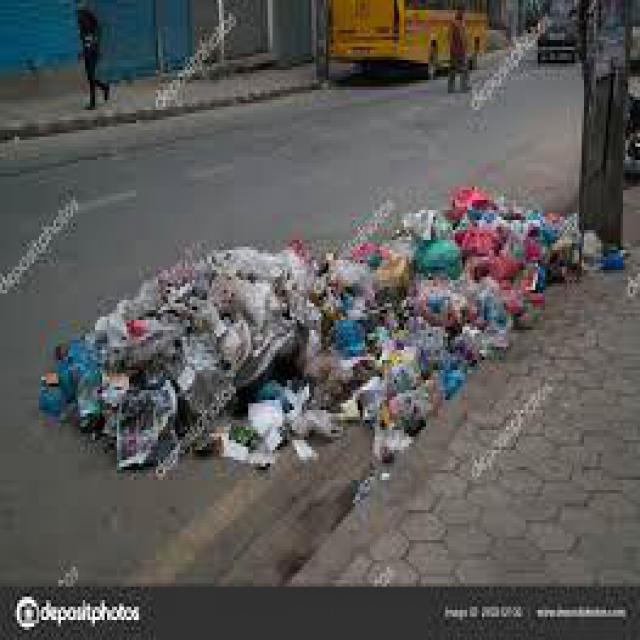garbage: (83, 280, 353, 450), (363, 217, 501, 403), (183, 243, 360, 290), (506, 207, 579, 293)
